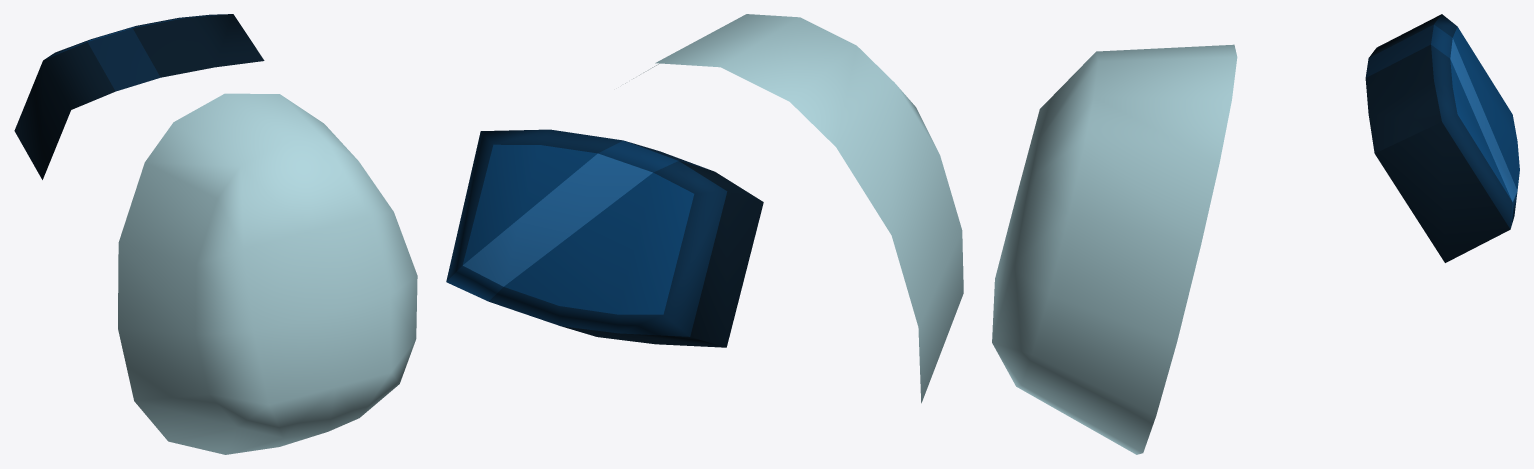
Rendered from hat_amongEgg_02.glb.
The picture shows the model from 3 angles, left to right: view 1: azimuth 30°, elevation 25°; view 2: azimuth 150°, elevation 25°; view 3: azimuth 270°, elevation 25°; orthographic projection. The views are drawn at different scales.
Visible parts, largest first — view 1: hat_amongEgg_02; view 2: hat_amongEgg_02; view 3: hat_amongEgg_02.
Boxes of the visible parts, <box> form: hat_amongEgg_02: <box>14,14,417,454</box>; hat_amongEgg_02: <box>446,14,963,403</box>; hat_amongEgg_02: <box>992,14,1519,454</box>.
Bounding box in the file's own units: 0.3682 × 0.4331 × 0.5396.
